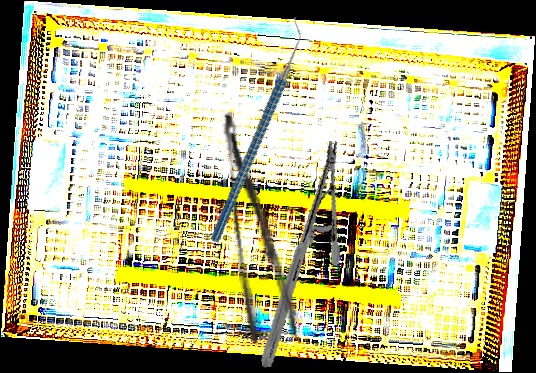Chopper: (145, 14, 366, 245)
Dressing Forceps: (219, 107, 301, 345)
Needle Holder: (219, 139, 381, 369)
